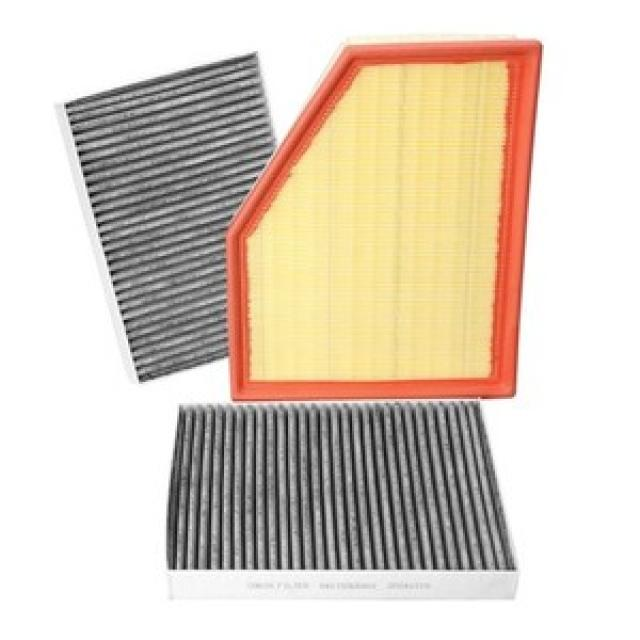air_filter: (226, 31, 552, 394), (158, 402, 525, 602)
